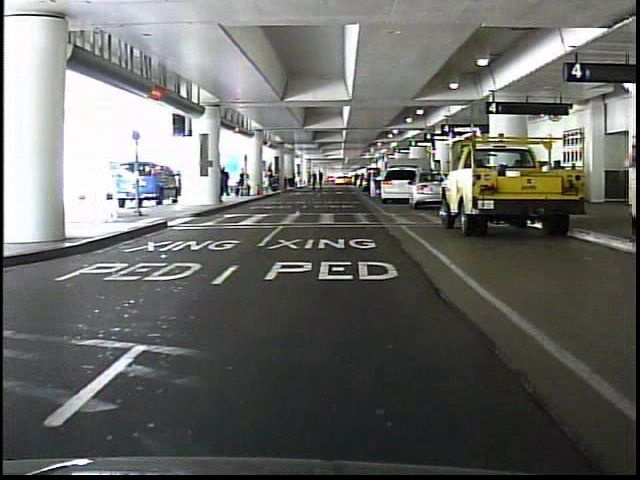person: (636, 133, 638, 240)
